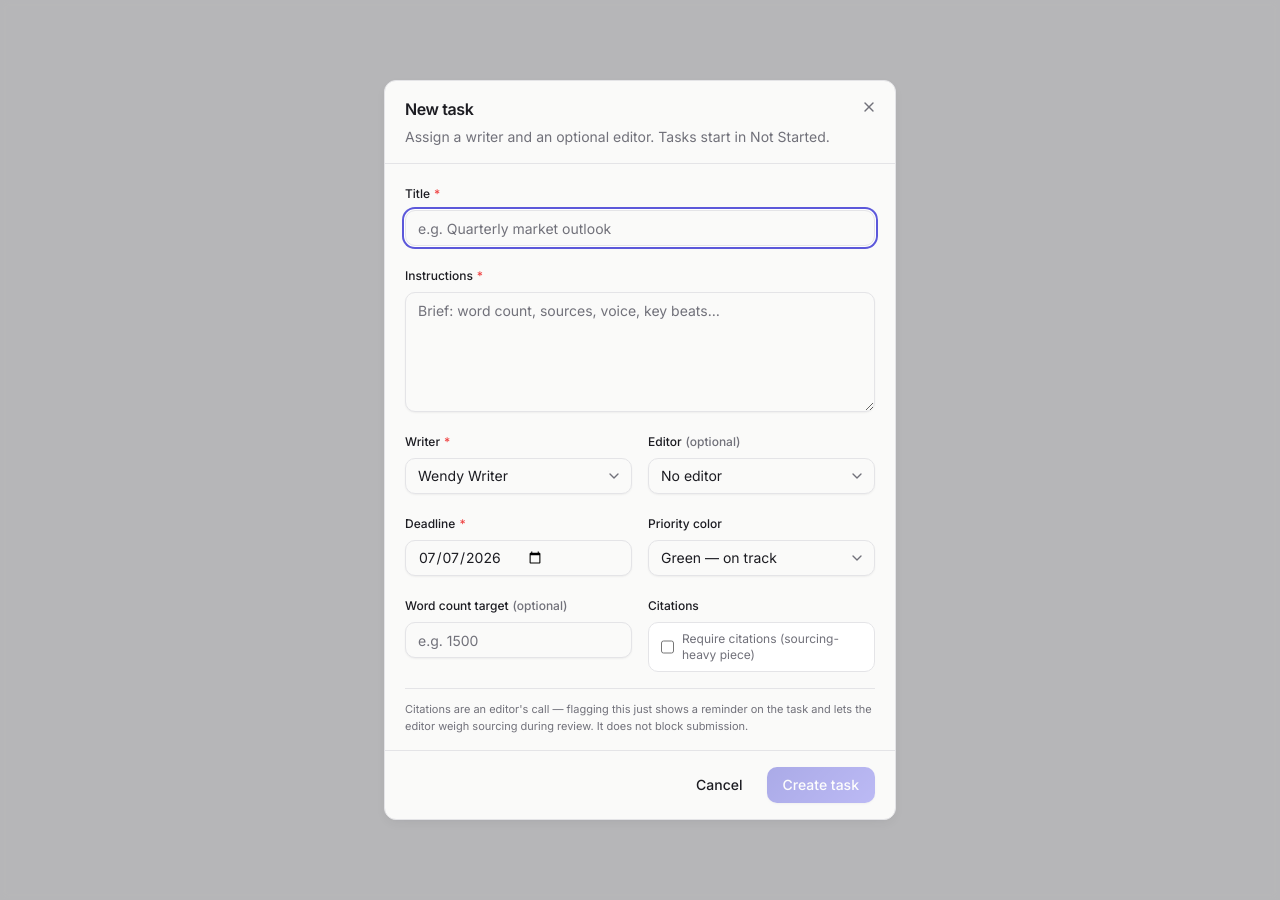
Scenario: TaskFormDialog › awaits createTask and keeps the dialog open, surfacing an error on failure
Step 1. Type "Quarterly market outlook" into the field labelled "Title *" → {"x": 640, "y": 228}, box 405,210 -> 875,246
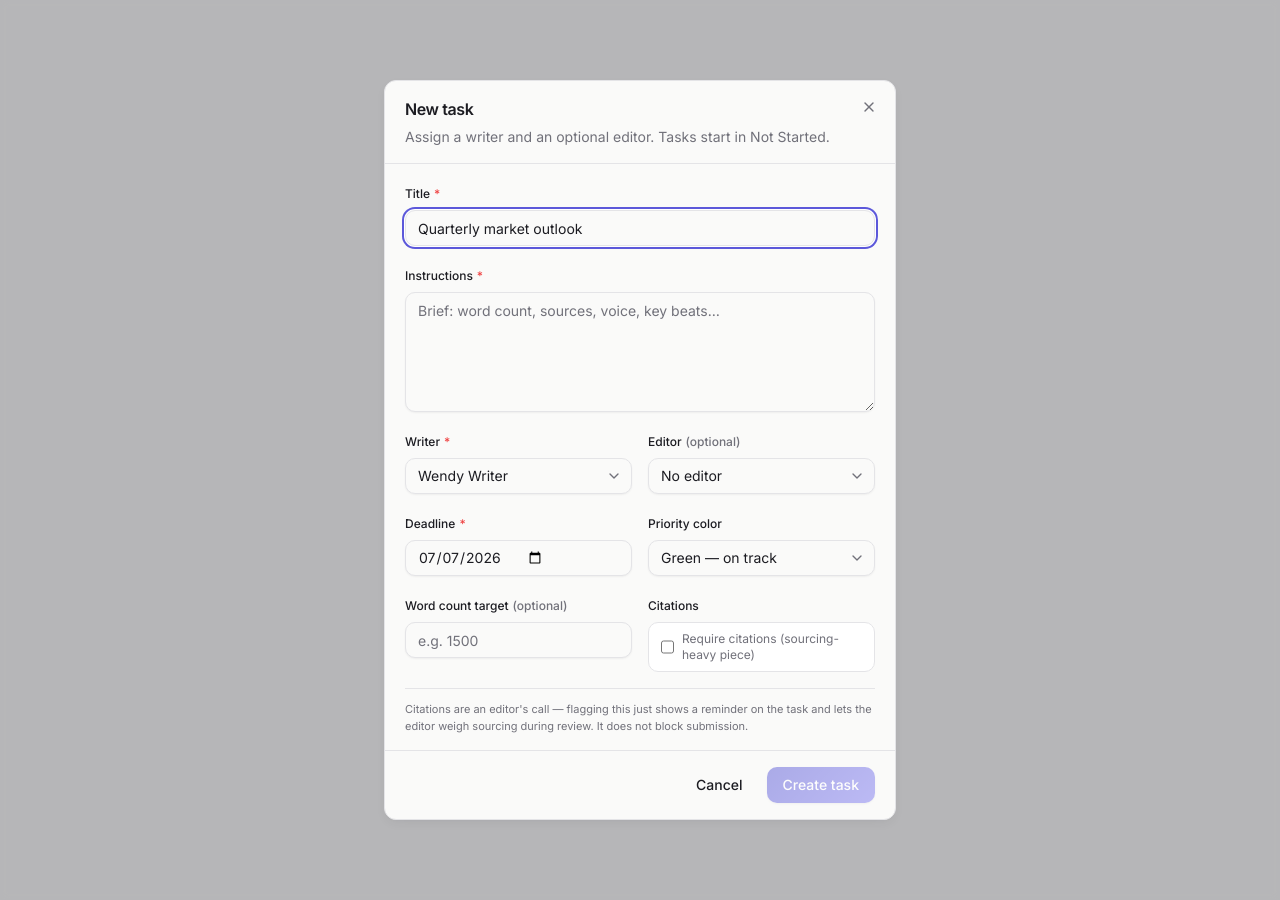
Step 2. Type "Cover the key beats and sources." into the text box labelled "Instructions *" → {"x": 640, "y": 352}, box 405,292 -> 875,412
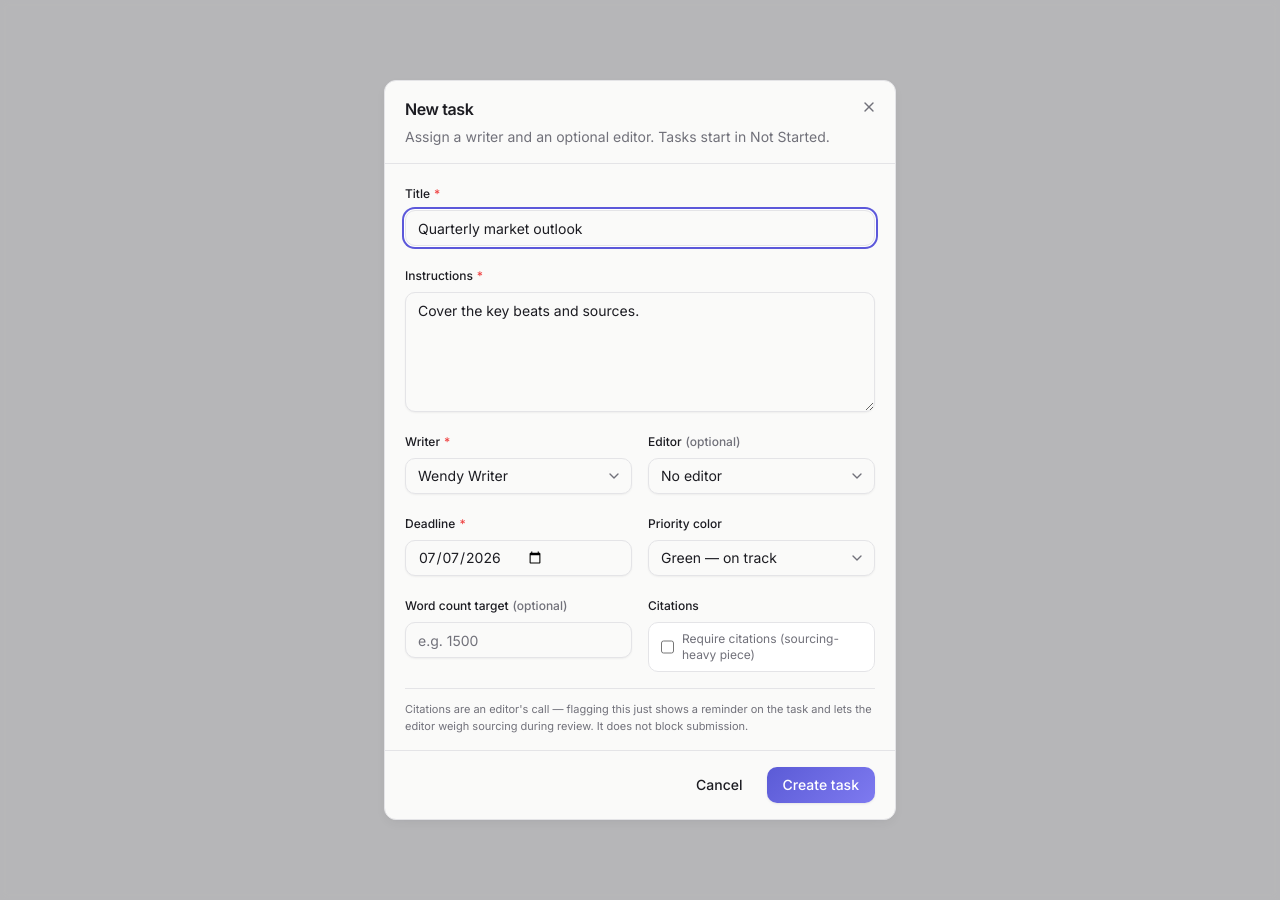
Step 3. Click the button "Create task" → {"x": 821, "y": 785}, box 766,767 -> 875,803
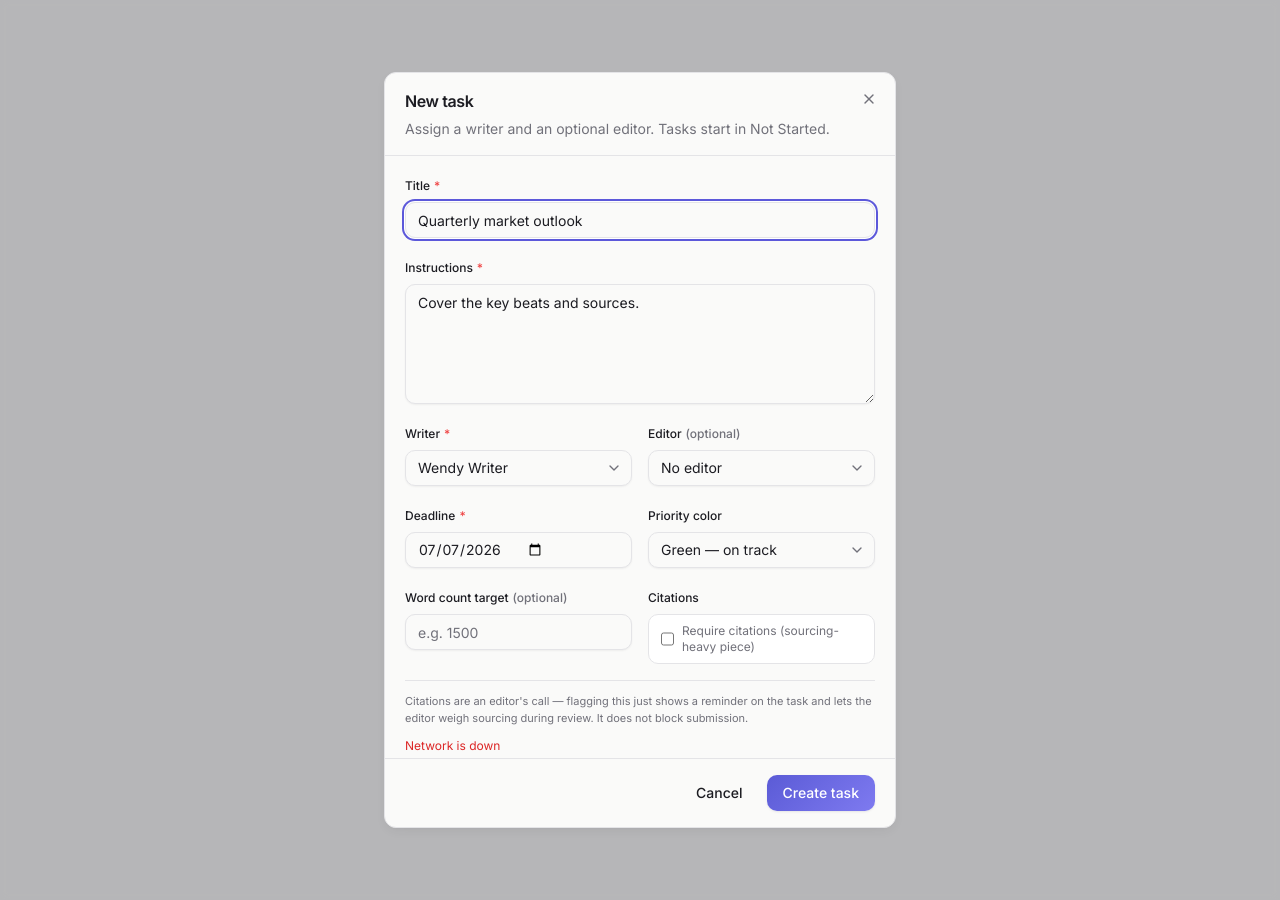
Check: the text "Network is down" is shown, box 405,738 -> 500,753
